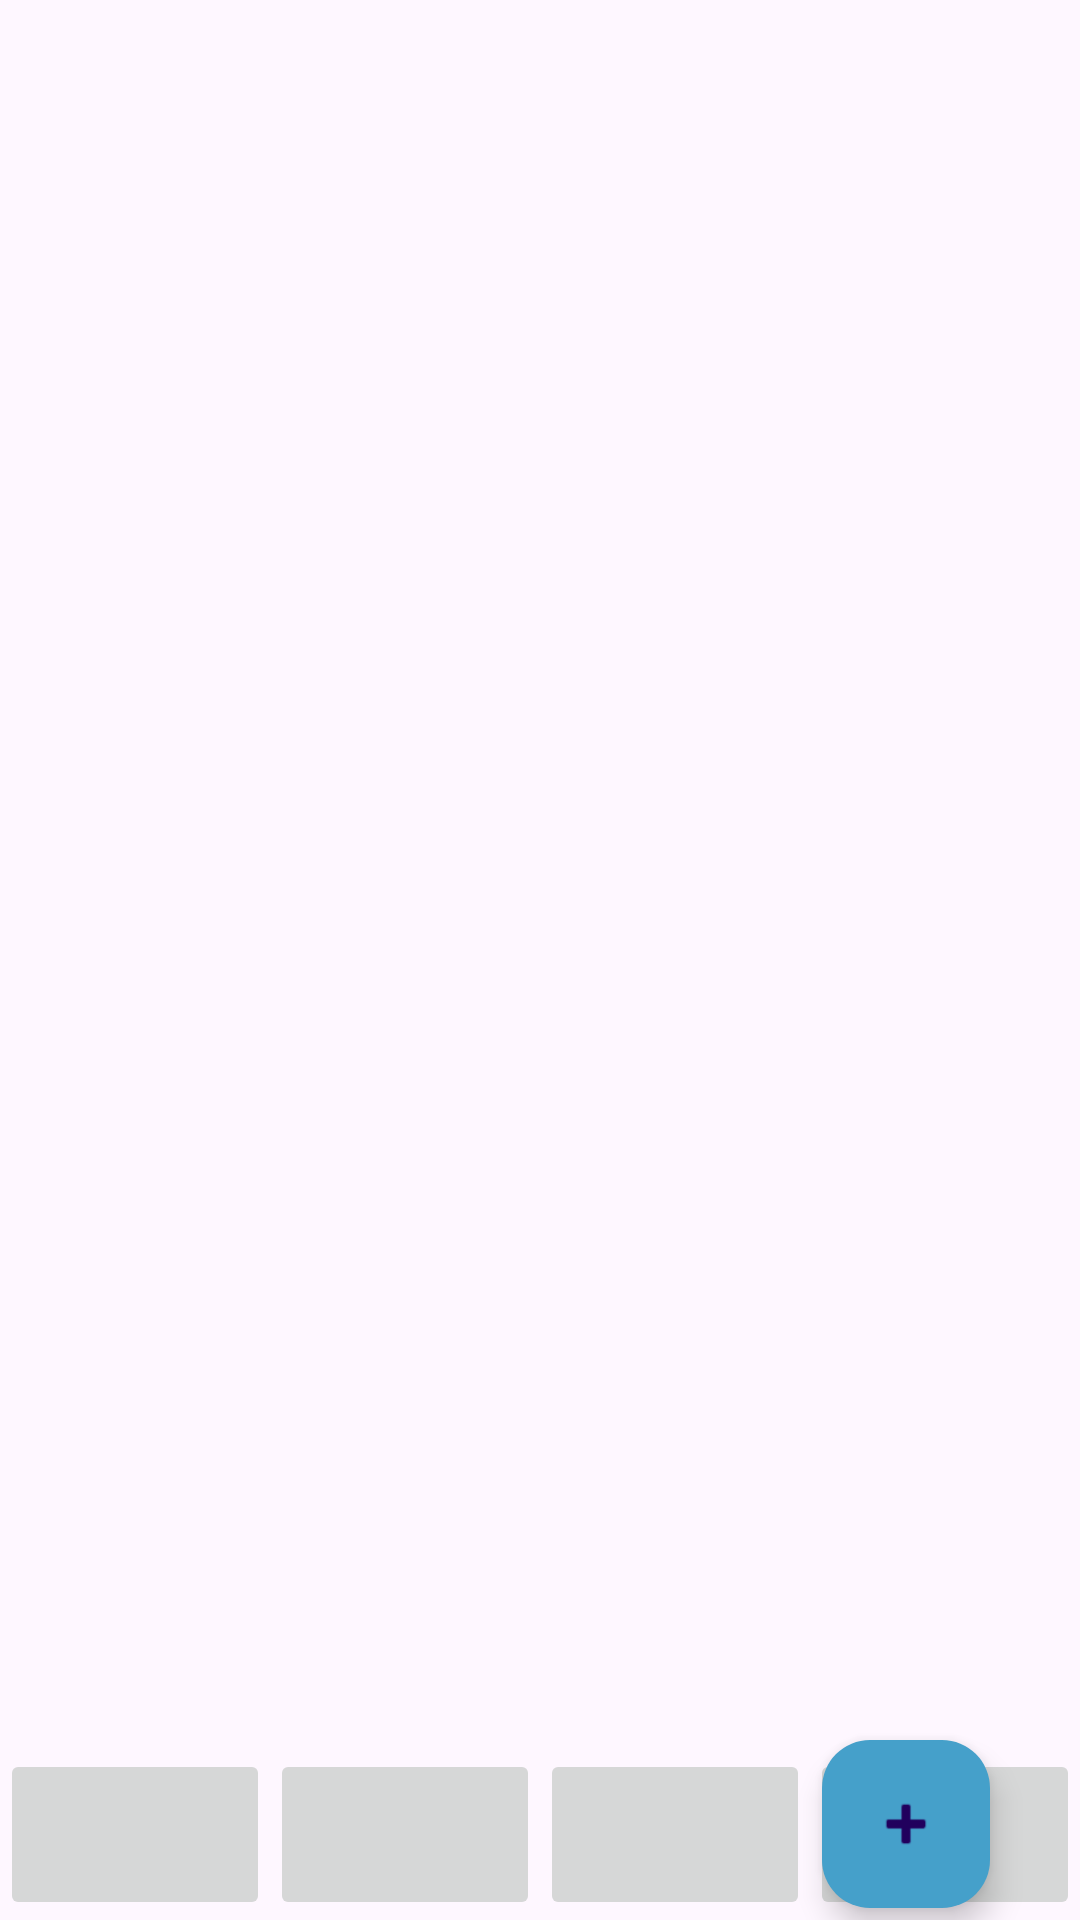

Locate icon controls on the screen. Image size 1080px x 1920px, boxes as (x1, y1, x2, y2).
add: (822, 1740, 990, 1908)
